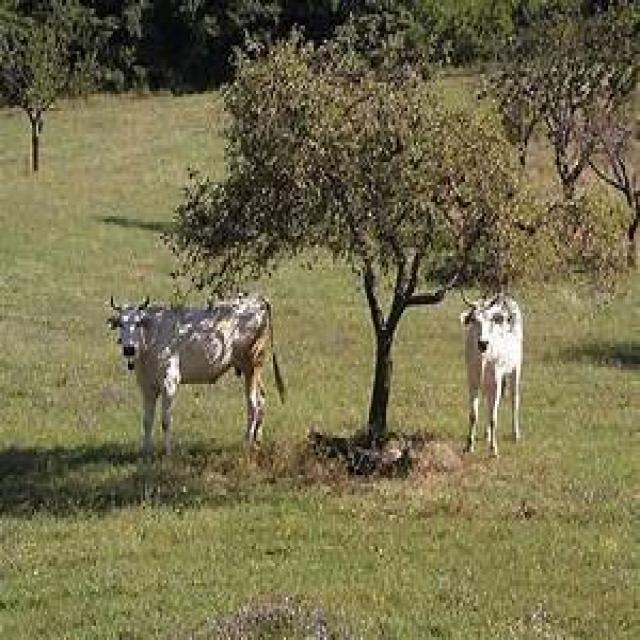cow: (104, 290, 284, 458), (457, 287, 522, 458)
